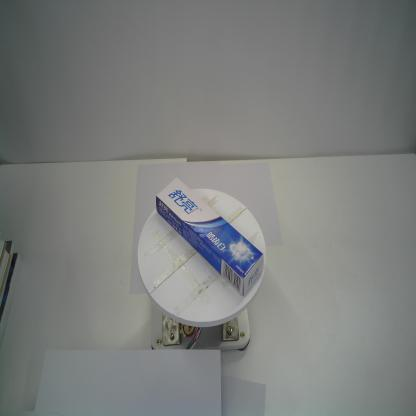Personal Hygiene: (155, 177, 265, 297)
